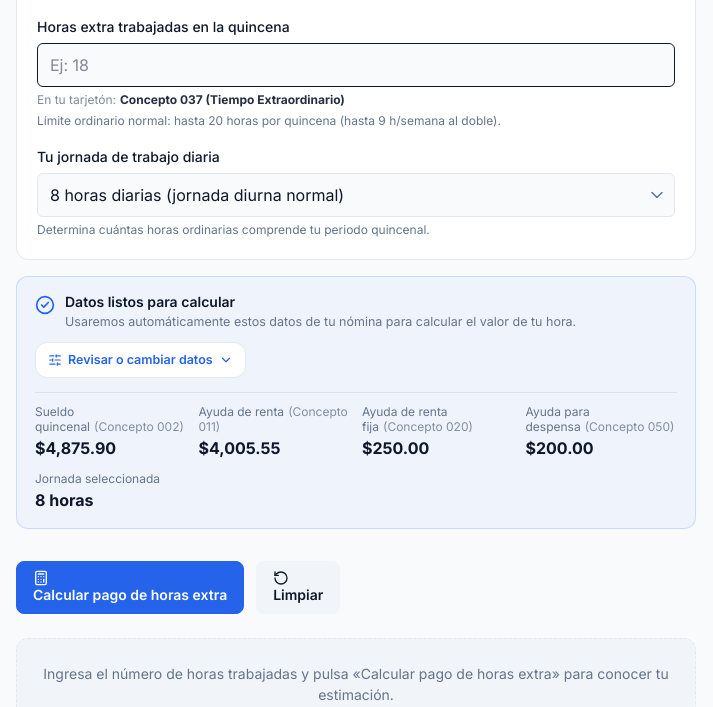
Test: Calculadoras Rediseño - UX y Equivalencia Matemática › TiempoExtraCalculator › muestra TarjetonDataNotice cuando la categoría está precargada y permite alternar edición
The image size is (713, 707).
(page scrolled)
Expected: the text "Datos listos para calcular" is shown, top-left (65, 293), bottom-right (235, 310)
Alternar edición
Click the button "Revisar o cambiar datos": (140, 360) top-left (35, 342), bottom-right (246, 378)
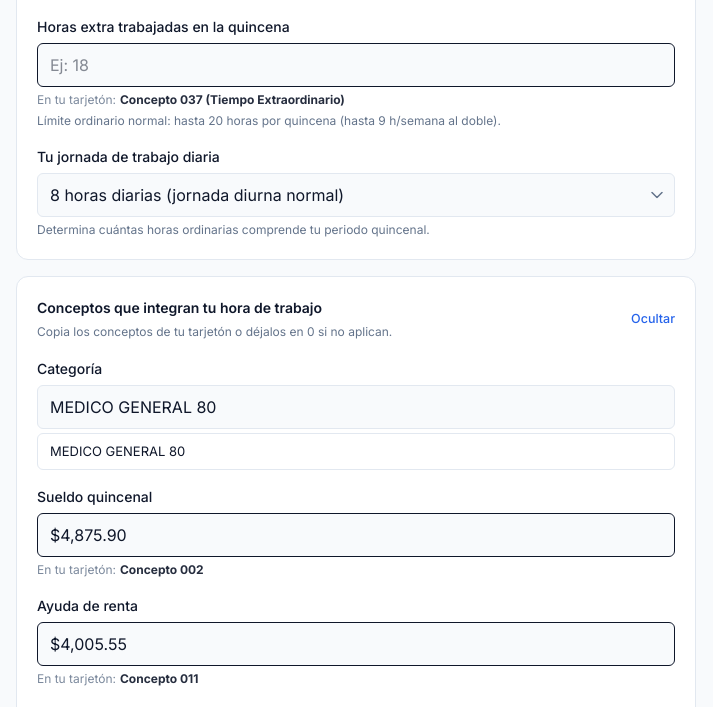
Expected: the field labelled "Sueldo quincenal" is shown, top-left (37, 513), bottom-right (675, 557)
